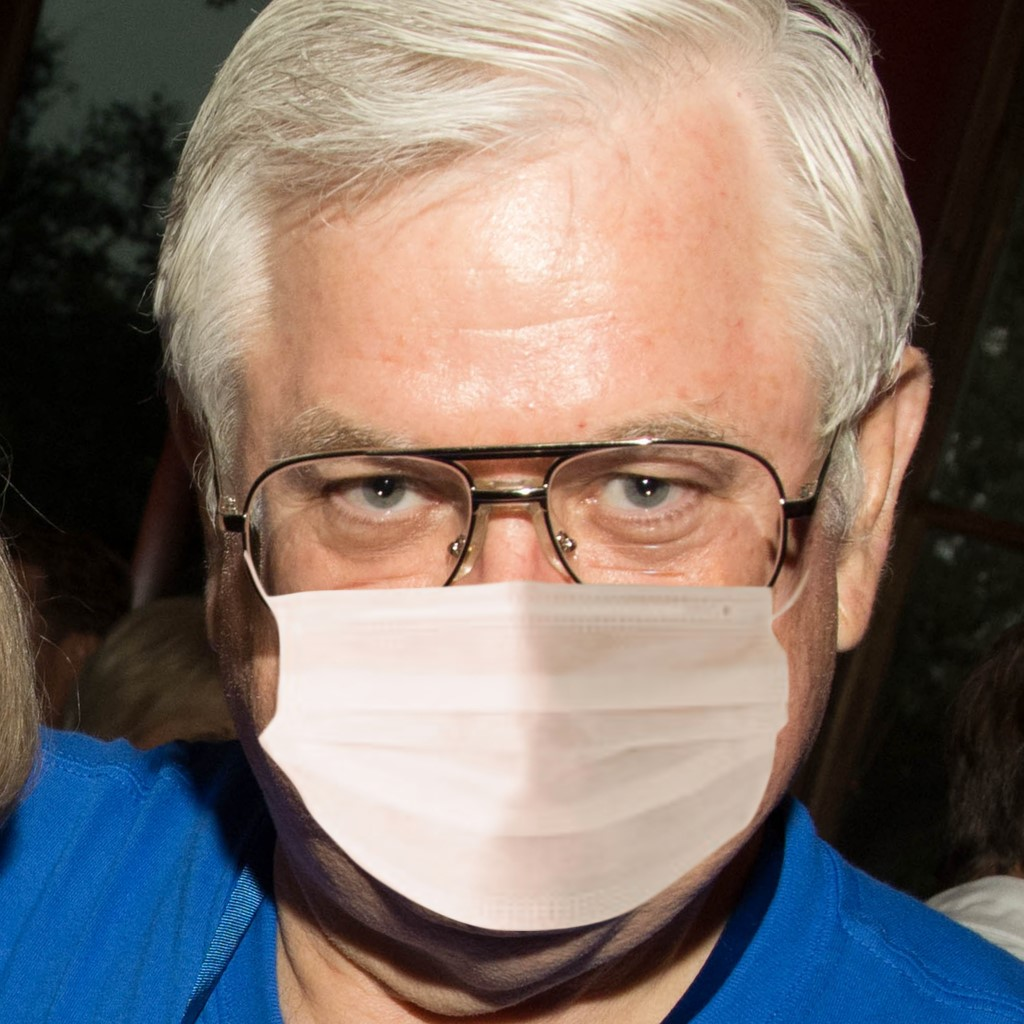con_mascara: (202, 39, 838, 928)
